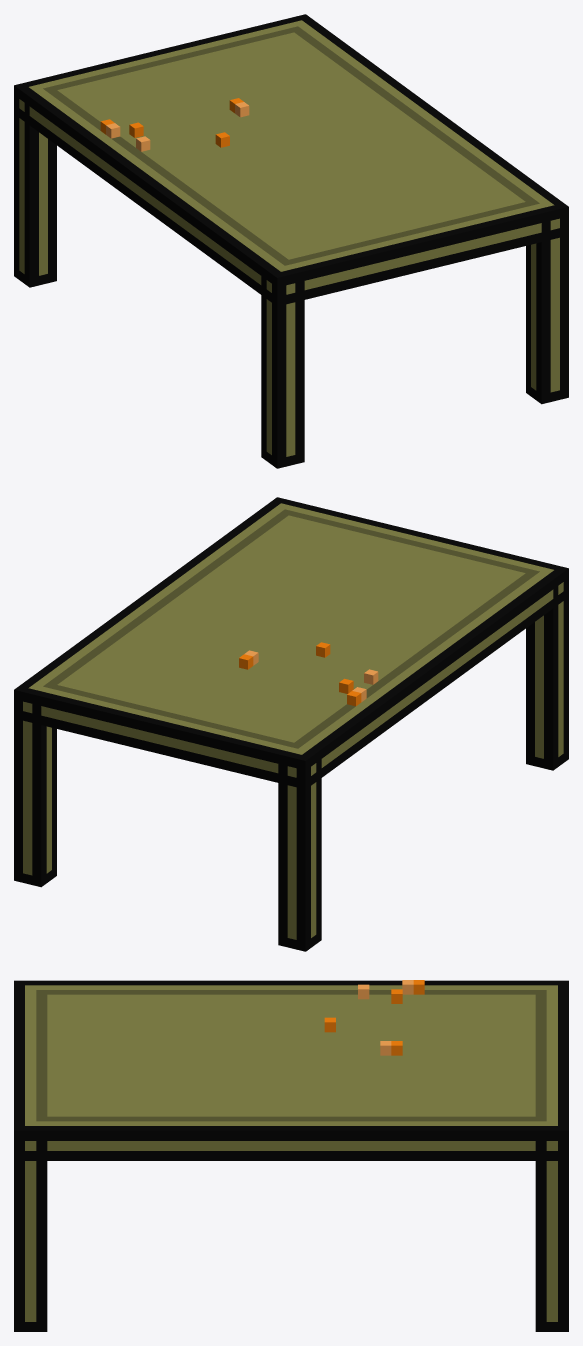
Rendered from KitchenTable.obj.
3 renders of one model, top to bottom at view 1: azimuth 30°, elevation 25°; view 2: azimuth 150°, elevation 25°; view 3: azimuth 270°, elevation 25°, orthographic. The views are drawn at different scales.
Parts seen in each view (by area): view 1: KitchenTable.001; view 2: KitchenTable.001; view 3: KitchenTable.001.
Part boxes in pixels (bbox=[...]): KitchenTable.001: bbox=[14, 14, 568, 468]; KitchenTable.001: bbox=[14, 497, 568, 951]; KitchenTable.001: bbox=[14, 980, 568, 1331].
Size of the model in its own units: 3.2 by 2.1 by 5.
1 material, 1 textured.
